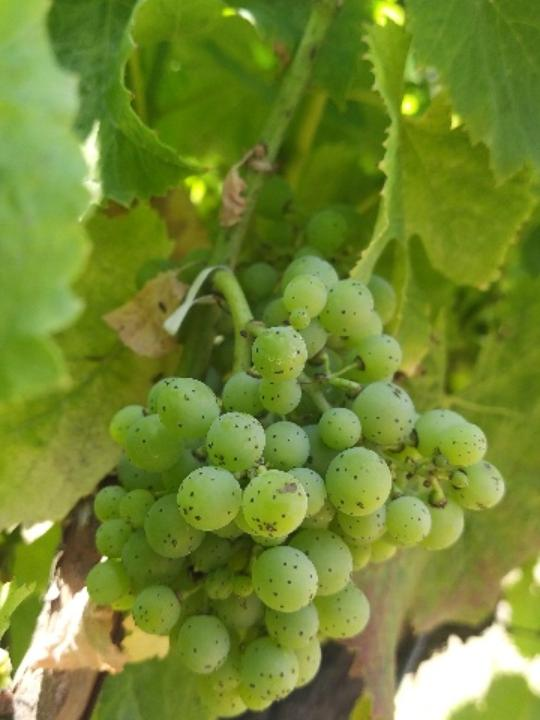grape: (84, 251, 507, 720)
